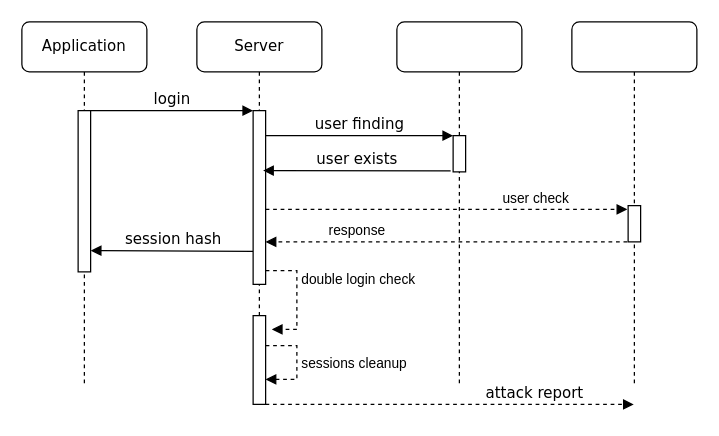
Some shapes in this 719 by 436 pixel diagram are drawn without their labels. The centre of each missing label's shape, as x and y in pixels:
Central server: (634,202)
Database: (459,202)
